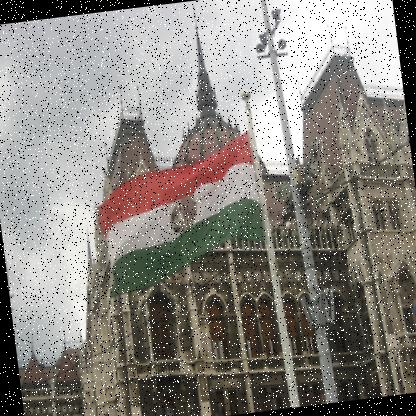hu: (91, 130, 267, 299)
